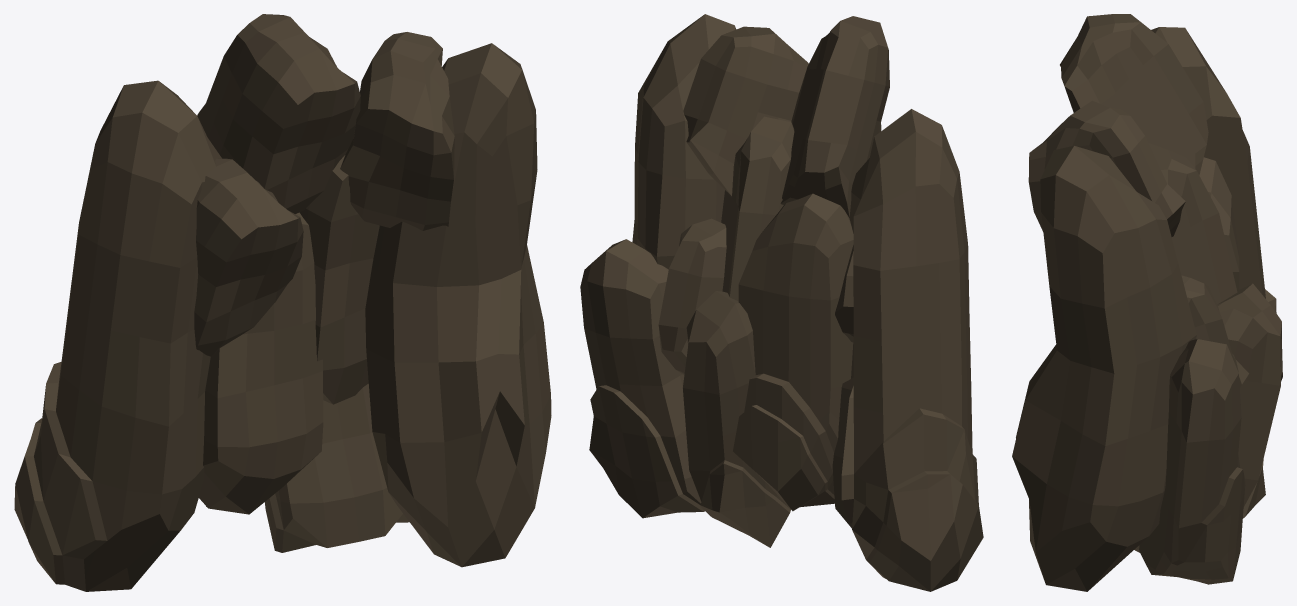
File: cliffrocks2.fbx
The picture shows the model from 3 angles, left to right: view 1: azimuth 30°, elevation 25°; view 2: azimuth 150°, elevation 25°; view 3: azimuth 270°, elevation 25°; orthographic projection. The views are drawn at different scales.
Parts seen in each view (by area): view 1: pCube11; view 2: pCube11; view 3: pCube11.
Boxes of the visible parts, x1,y1,x2,y2 form: pCube11: [14, 14, 551, 591]; pCube11: [580, 14, 983, 591]; pCube11: [1012, 14, 1282, 591].
Bounding box in the file's own units: 684 × 828 × 403.
